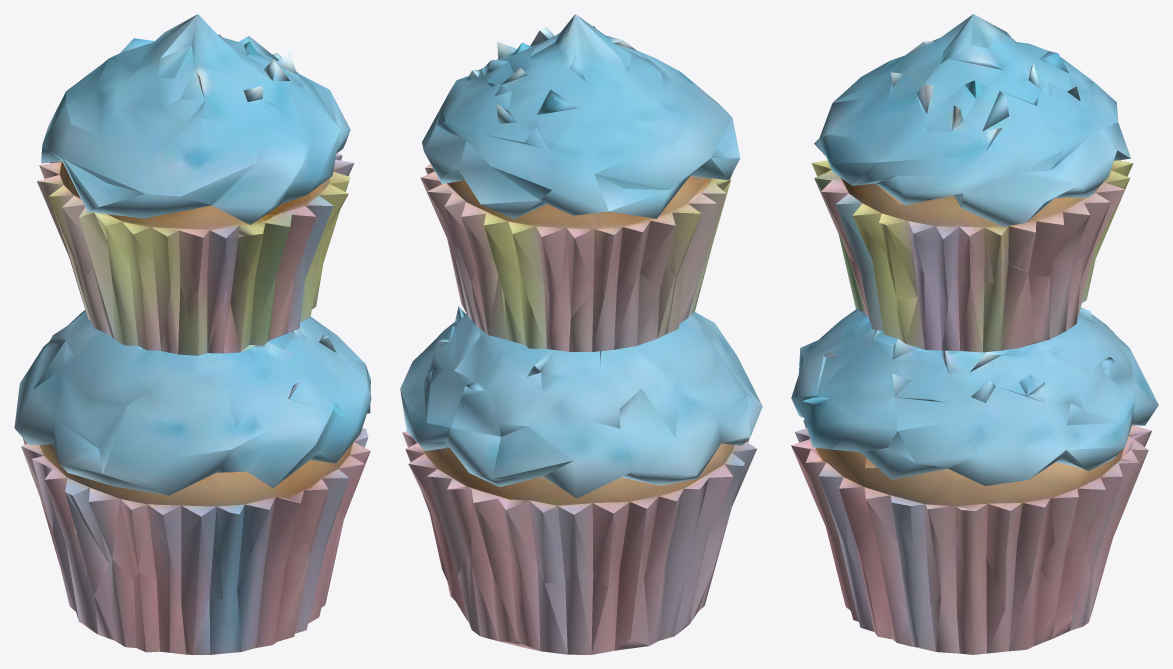
File: m2FrostedCupcakeTower.glb
3 views of the same model, side by side, from view 1: azimuth 30°, elevation 25°; view 2: azimuth 150°, elevation 25°; view 3: azimuth 270°, elevation 25° (orthographic).
Visible parts, largest first — view 1: model; view 2: model; view 3: model.
Part boxes in pixels (x1,y1,x2,y2): model: (14,14,371,654); model: (400,14,762,654); model: (791,14,1158,654).
Size of the model in its own units: 1.03 by 1.91 by 1.08.
Materials: 1 (1 with a texture image).
